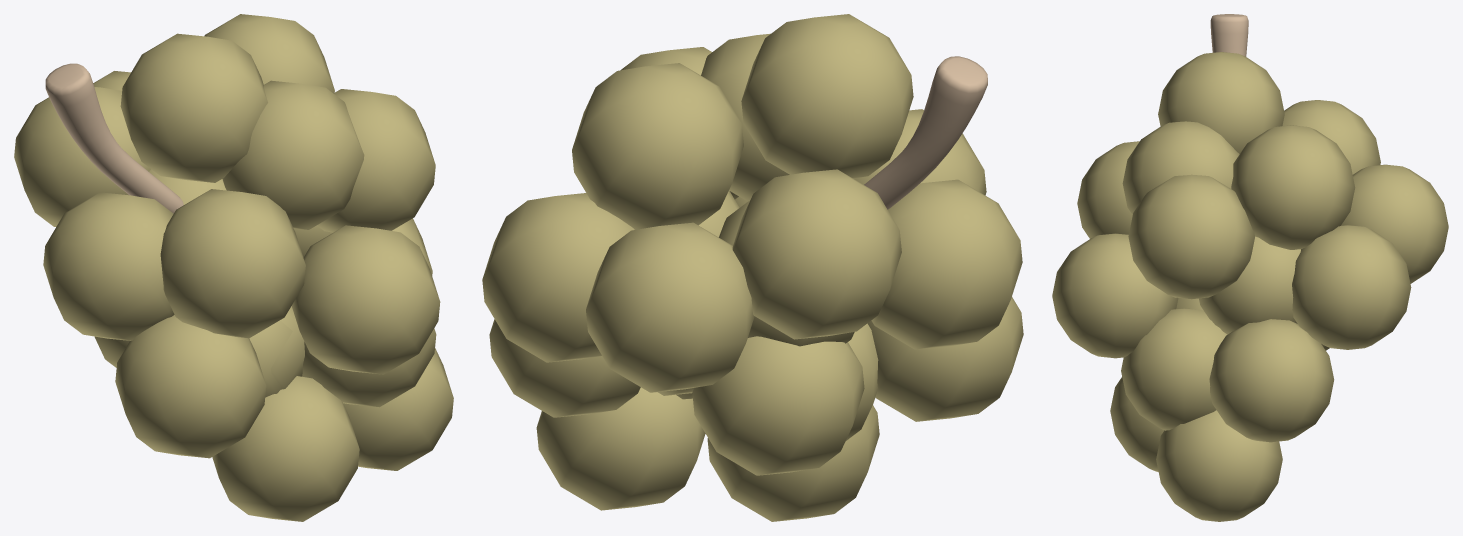
Rendered from purplegrape.glb.
3 views of the same model, side by side, from view 1: azimuth 30°, elevation 25°; view 2: azimuth 150°, elevation 25°; view 3: azimuth 270°, elevation 25° (orthographic). The views are drawn at different scales.
Parts seen in each view (by area): view 1: Sphere 9, Sphere, Sphere 12, Sphere 2, Sphere 8, Sphere 3, Sphere 18, Sphere 10, Sphere 13, Sphere 5, rop, Sphere 11 (+7 smaller); view 2: Sphere 17, Sphere 11, Sphere 13, Sphere 12, Sphere 8, Sphere 16, Sphere 14, Sphere 5, Sphere 2, Sphere 3, rop, Sphere 6 (+6 smaller); view 3: Sphere 10, Sphere 6, Sphere 14, Sphere 11, Sphere, Sphere 5, Sphere 4, Sphere 12, Sphere 17, Sphere 18, Sphere 19, Sphere 9 (+3 smaller).
Boxes of the visible parts, x1=… form: Sphere 9: x1=160, y1=189, x2=305, y2=338; Sphere: x1=292, y1=225, x2=440, y2=374; Sphere 12: x1=120, y1=33, x2=267, y2=182; Sphere 2: x1=115, y1=315, x2=266, y2=458; Sphere 8: x1=43, y1=192, x2=174, y2=340; Sphere 3: x1=212, y1=376, x2=359, y2=521; Sphere 18: x1=222, y1=80, x2=364, y2=229; Sphere 10: x1=317, y1=89, x2=435, y2=232; Sphere 13: x1=14, y1=87, x2=150, y2=226; Sphere 5: x1=343, y1=348, x2=453, y2=470; rop: x1=45, y1=63, x2=183, y2=213; Sphere 11: x1=204, y1=14, x2=334, y2=93; Sphere 17: x1=586, y1=222, x2=754, y2=392; Sphere 11: x1=572, y1=63, x2=743, y2=229; Sphere 13: x1=732, y1=169, x2=901, y2=339; Sphere 12: x1=741, y1=14, x2=913, y2=178; Sphere 8: x1=871, y1=179, x2=1022, y2=349; Sphere 16: x1=692, y1=336, x2=864, y2=475; Sphere 14: x1=482, y1=193, x2=634, y2=362; Sphere 5: x1=536, y1=387, x2=705, y2=510; Sphere 2: x1=867, y1=297, x2=1023, y2=421; Sphere 3: x1=707, y1=405, x2=879, y2=521; rop: x1=864, y1=56, x2=987, y2=209; Sphere 6: x1=489, y1=319, x2=640, y2=417; Sphere 10: x1=1128, y1=174, x2=1254, y2=299; Sphere 6: x1=1209, y1=319, x2=1334, y2=442; Sphere 14: x1=1292, y1=225, x2=1411, y2=349; Sphere 11: x1=1231, y1=125, x2=1355, y2=249; Sphere: x1=1052, y1=233, x2=1178, y2=358; Sphere 5: x1=1156, y1=410, x2=1282, y2=521; Sphere 4: x1=1121, y1=308, x2=1227, y2=430; Sphere 12: x1=1158, y1=52, x2=1284, y2=153; Sphere 17: x1=1341, y1=164, x2=1448, y2=283; Sphere 18: x1=1122, y1=121, x2=1239, y2=214; Sphere 19: x1=1199, y1=236, x2=1300, y2=334; Sphere 9: x1=1077, y1=141, x2=1139, y2=238.
Bounding box in the file's own units: 1.84 × 2.02 × 1.88.
